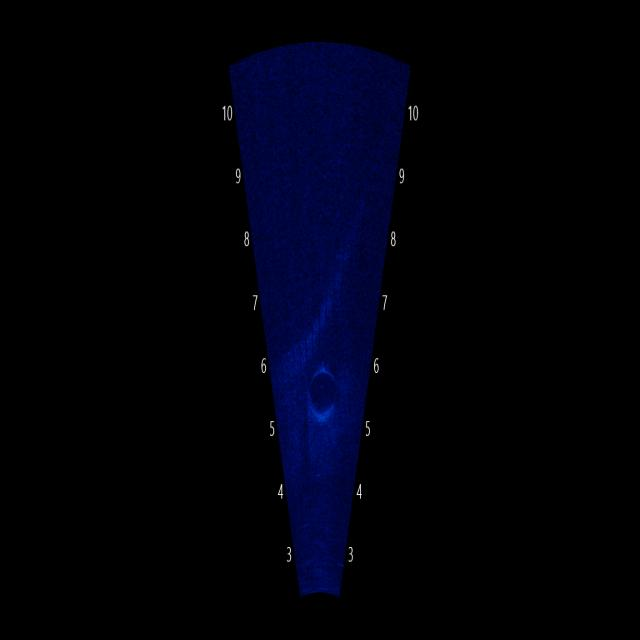circle: (305, 355, 350, 425)
